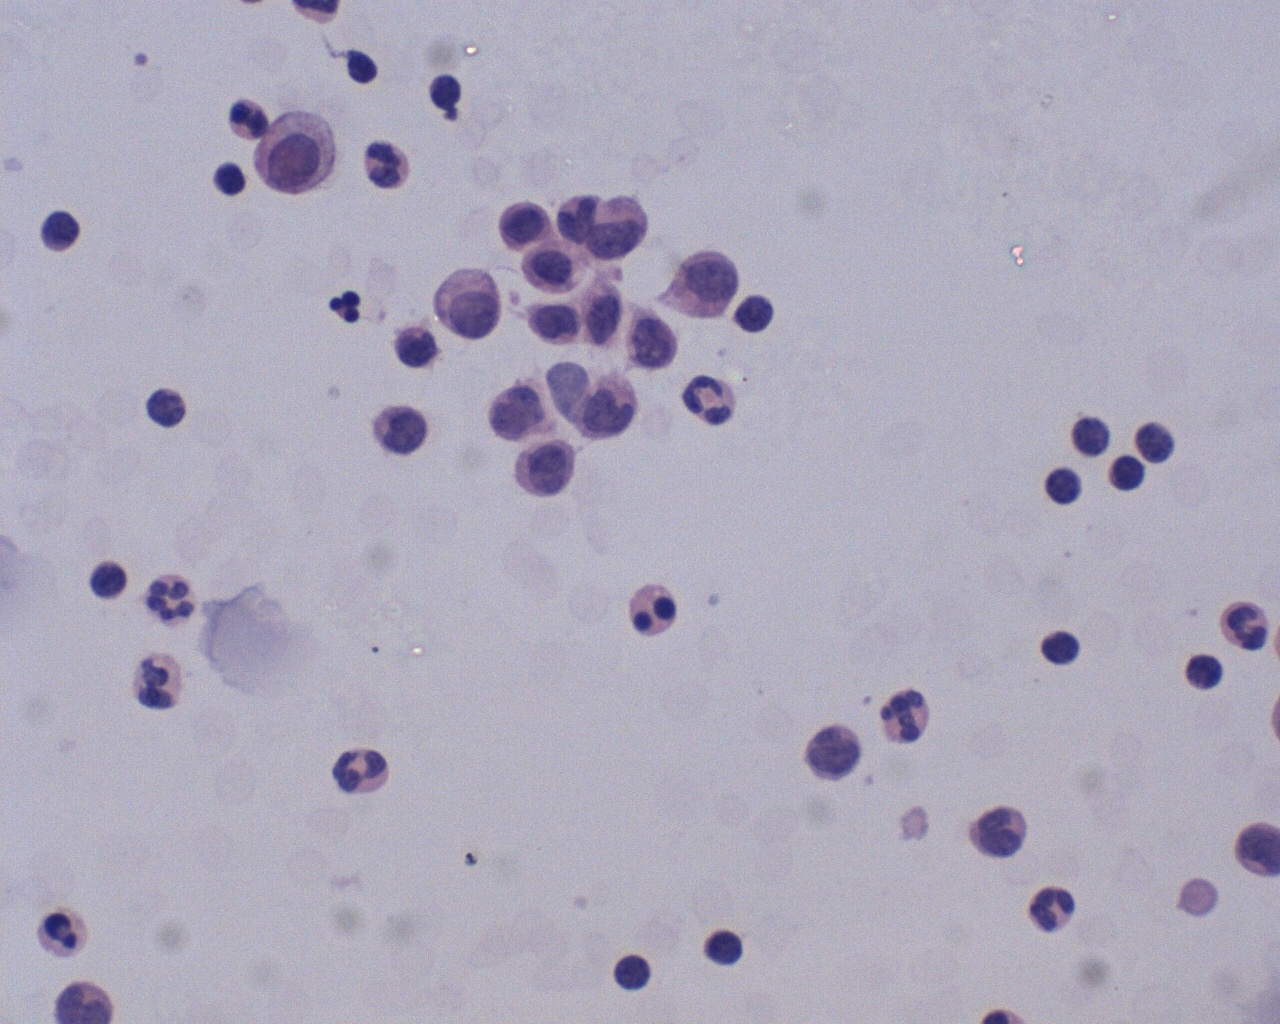ab: (248, 103, 343, 197), (426, 260, 511, 349), (655, 243, 740, 326), (509, 436, 578, 507), (624, 305, 685, 375)
lymph: (603, 945, 660, 997), (142, 380, 192, 436), (1037, 461, 1089, 513), (705, 921, 753, 971), (87, 552, 129, 605), (1106, 451, 1151, 498), (1039, 629, 1085, 672)
neutro: (133, 567, 207, 631), (678, 362, 744, 430), (875, 684, 941, 749), (359, 131, 418, 197), (331, 742, 395, 801), (1210, 598, 1270, 653), (1026, 883, 1081, 938), (328, 282, 376, 331)
